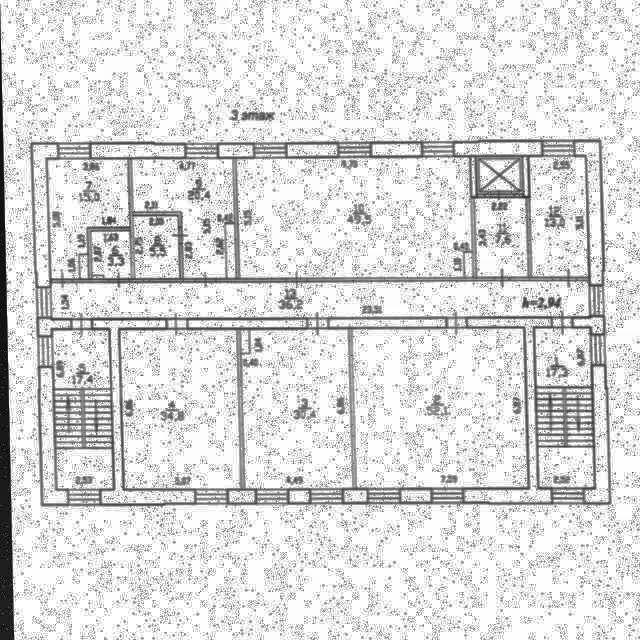room: (351, 327, 525, 489), (237, 159, 473, 278), (118, 328, 239, 491), (49, 283, 588, 318), (238, 326, 350, 491), (131, 156, 235, 281), (46, 158, 130, 280), (51, 328, 111, 489), (532, 326, 590, 489), (528, 156, 588, 278), (473, 199, 527, 278), (132, 215, 178, 279), (89, 230, 130, 279), (478, 158, 520, 189)
